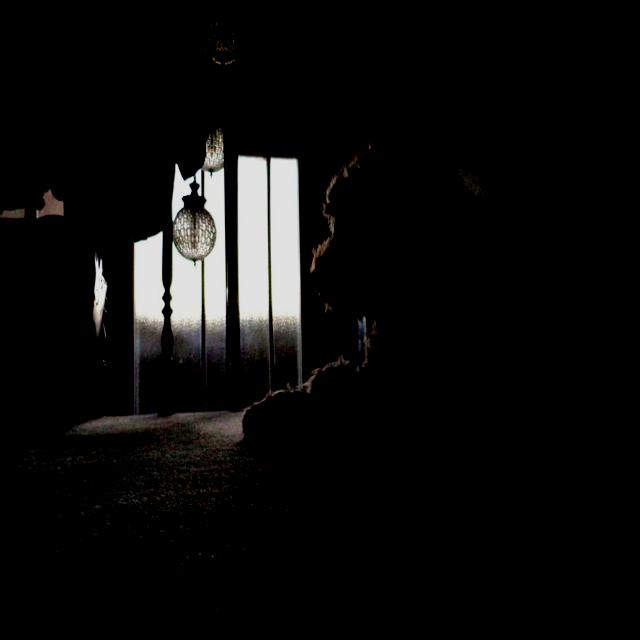Dog: (269, 162, 603, 585)
